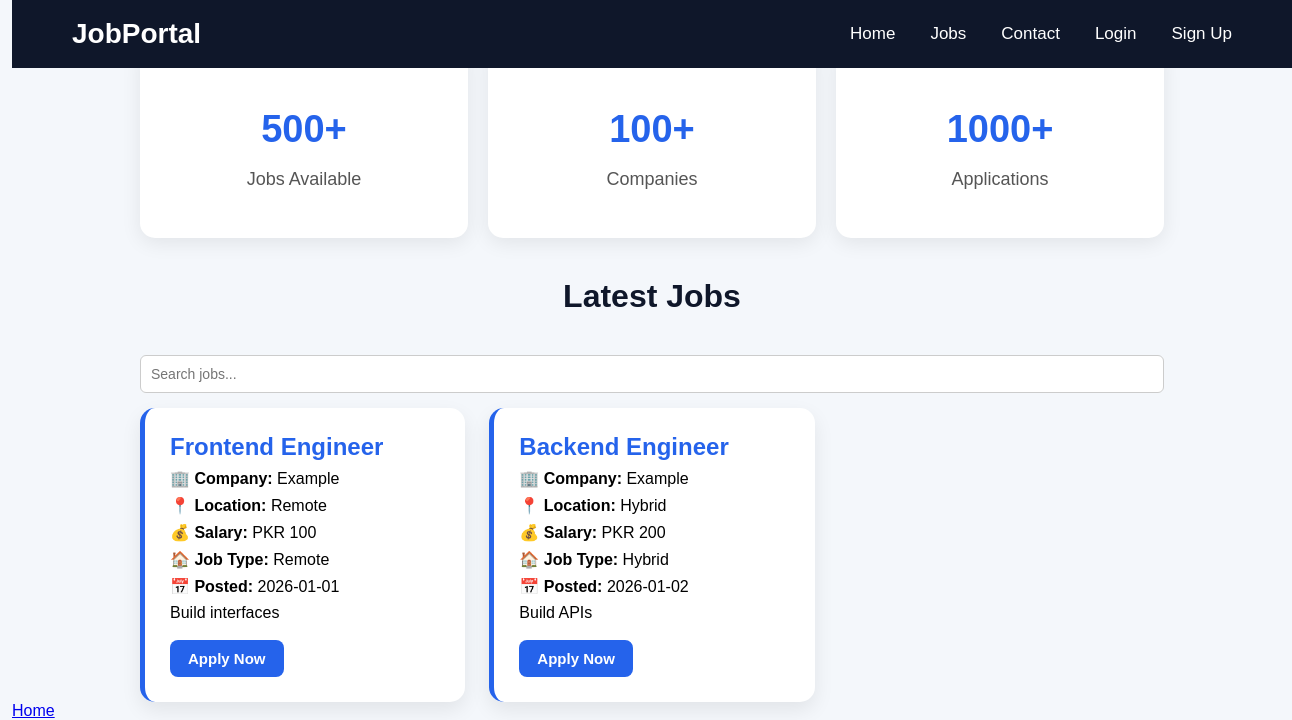
it: visitors can browse, search, and view jobs but must log in to apply
(page scrolled)
Check: the heading "Frontend Engineer" is shown, box [170,433,383,461]
Check: the heading "Backend Engineer" is shown, box [519,433,729,461]
Type "frontend" into the field with placeholder "Search jobs..." at (652,374), box [140,355,1164,393]
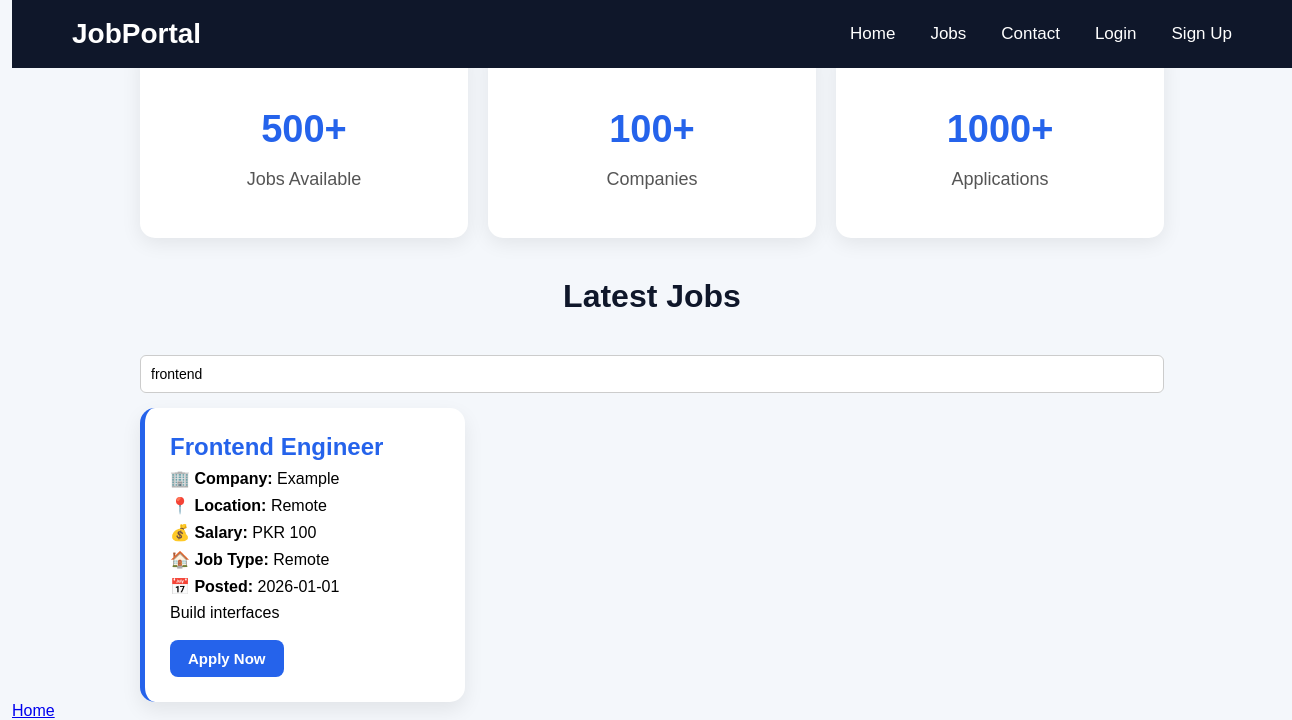
Check: the heading "Frontend Engineer" is shown, box [170,433,383,461]
Check: the heading "Backend Engineer" is gone
Click the link "Apply Now" at (232,658), box [170,650,294,667]
(page scrolled)
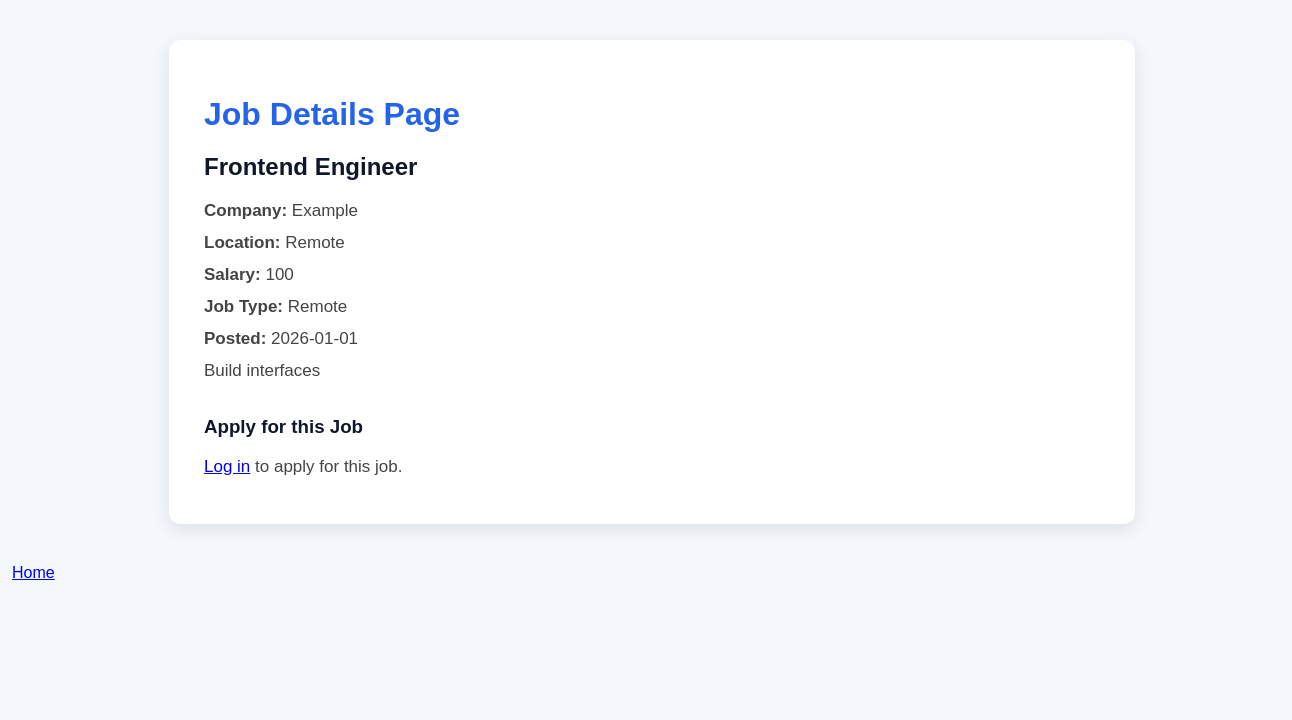
Check: the heading "Frontend Engineer" is shown, box [204,153,417,180]
Check: the link "Log in" is shown, box [204,457,250,476]
Check: the text "to apply for this job." is shown, box [250,457,402,476]
